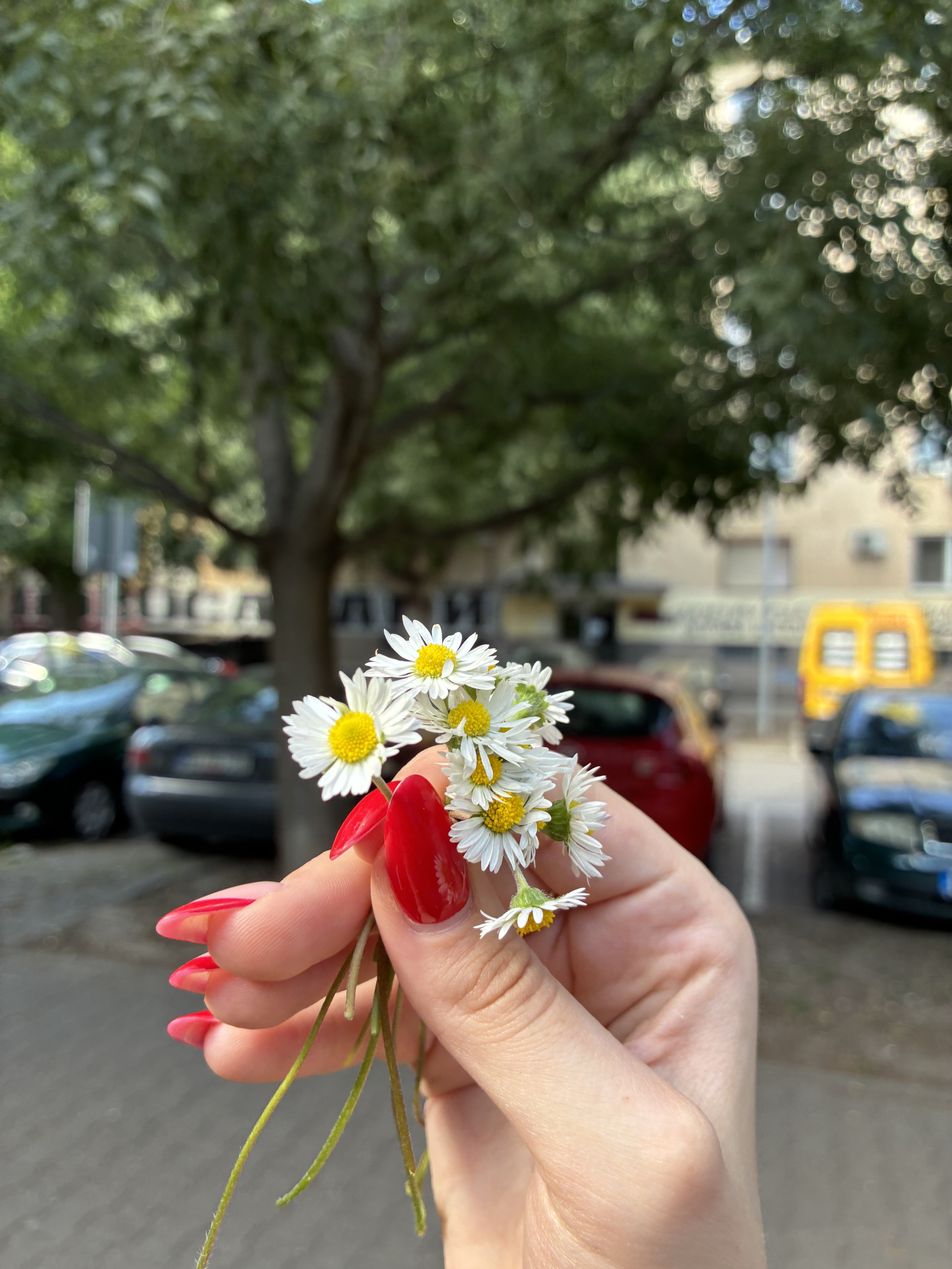daisy: (272, 665, 425, 808), (360, 611, 502, 694), (411, 673, 532, 768), (444, 770, 536, 875), (466, 877, 593, 951), (555, 741, 617, 888), (434, 735, 533, 811), (499, 658, 578, 749), (518, 769, 555, 869)
